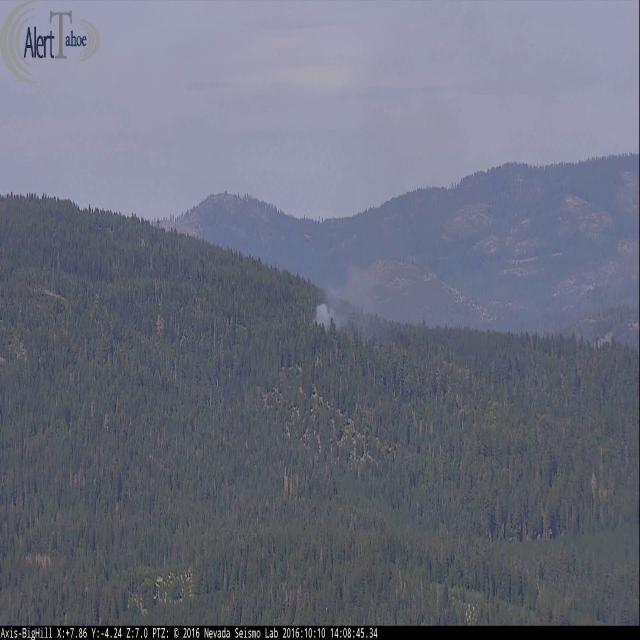smoke: (312, 249, 381, 339)
